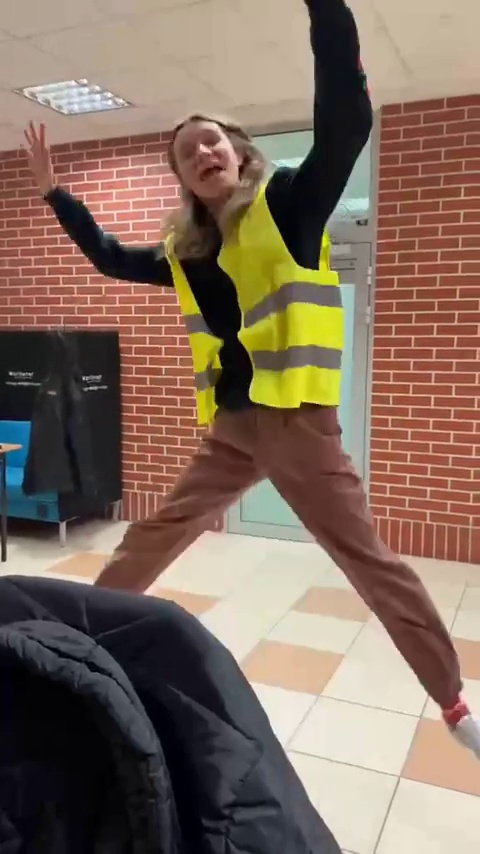vest: (135, 178, 432, 728)
